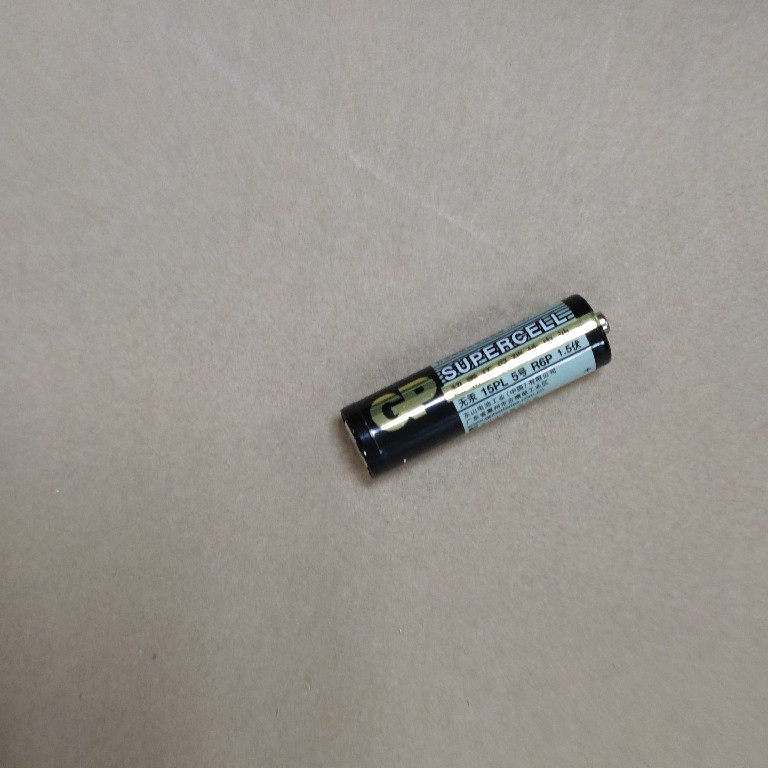charge: (332, 290, 617, 481)
